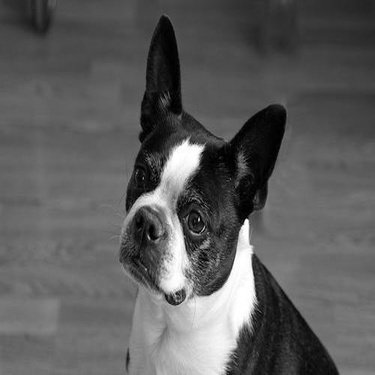dog: (85, 9, 357, 373)
